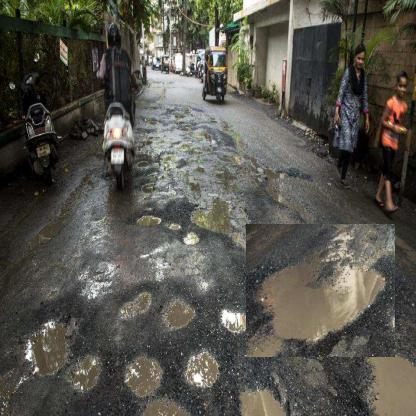pothole_water: (246, 224, 396, 358), (149, 280, 210, 345), (175, 333, 225, 401)
pothole_water_m: (11, 289, 112, 401)
